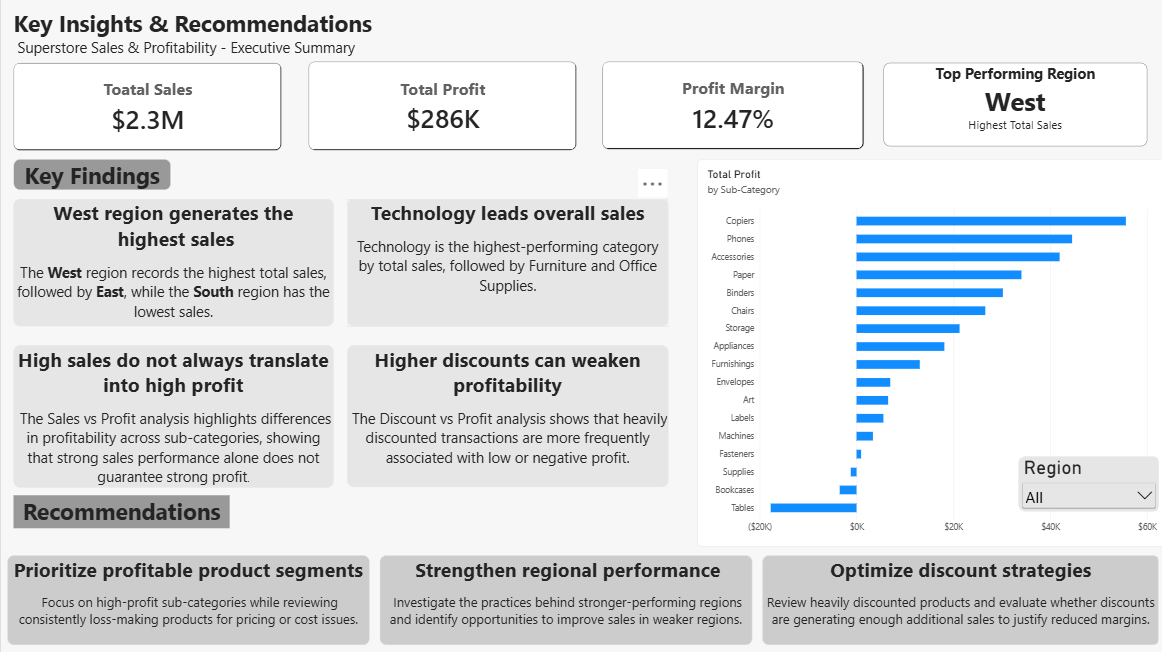

The dashboard page shown, as its layout file describes it:
{"tool":"powerbi","page":{"name":"Key Insights & Recommendations","canvas":[1920,1080],"ordinal":2},"visuals":[{"type":"textbox","box":[20.9,14,640.1,113.4],"z":0},{"type":"textbox","box":[570.2,329.3,529,209.9],"z":1000},{"type":"textbox","box":[20.6,329.3,526.9,209.9],"z":2000},{"type":"textbox","box":[20.6,263.5,259.3,51.5],"z":3000},{"type":"textbox","box":[570.2,570.2,528.5,233.7],"z":4000},{"type":"textbox","box":[20.6,570.2,526.9,234.6],"z":5000},{"type":"textbox","box":[20.9,816.3,355.8,54.1],"z":6000},{"type":"textbox","box":[10.3,916,596.9,148.2],"z":7000},{"type":"textbox","box":[1254.1,915.7,654.1,148.3],"z":8000},{"type":"textbox","box":[623.7,916,613.4,148.2],"z":9000},{"type":"cardVisual","fields":{"Data":["Superstore.Toatal Sales"]},"box":[20.9,104.7,441.3,144.8],"z":10000},{"type":"cardVisual","fields":{"Data":["Superstore.Total Profit"]},"box":[505.8,102.9,441.3,146.5],"z":11000},{"type":"cardVisual","fields":{"Data":["Superstore.Profit Margin"]},"box":[990.7,102.9,430.8,144.8],"z":12000},{"type":"textbox","box":[1452.9,104.7,434.3,137.8],"z":13000},{"type":"clusteredBarChart","fields":{"Category":["Superstore.Sub-Category"],"Y":["Superstore.Total Profit"]},"box":[1146.5,263.5,773.9,638.1],"z":13001},{"type":"slicer","fields":{"Values":["Superstore.Region"]},"box":[1675.5,753.3,232.6,90.6],"z":13002}]}

Visuals, with their boxes in screenshot pixels (x1, y1, x2, y2), scaled from the page's 1920x1080 canvas onto the 1162x652 screenshot:
textbox: detection(13, 8, 400, 77)
textbox: detection(345, 199, 665, 326)
textbox: detection(12, 199, 331, 326)
textbox: detection(12, 159, 169, 190)
textbox: detection(345, 344, 665, 485)
textbox: detection(12, 344, 331, 486)
textbox: detection(13, 493, 228, 525)
textbox: detection(6, 553, 367, 642)
textbox: detection(759, 553, 1155, 642)
textbox: detection(377, 553, 749, 642)
cardVisual - Superstore.Toatal Sales: detection(13, 63, 280, 151)
cardVisual - Superstore.Total Profit: detection(306, 62, 573, 151)
cardVisual - Superstore.Profit Margin: detection(600, 62, 860, 150)
textbox: detection(879, 63, 1142, 146)
clusteredBarChart - Superstore.Sub-Category x Superstore.Total Profit: detection(694, 159, 1161, 544)
slicer - Superstore.Region: detection(1014, 455, 1155, 509)
